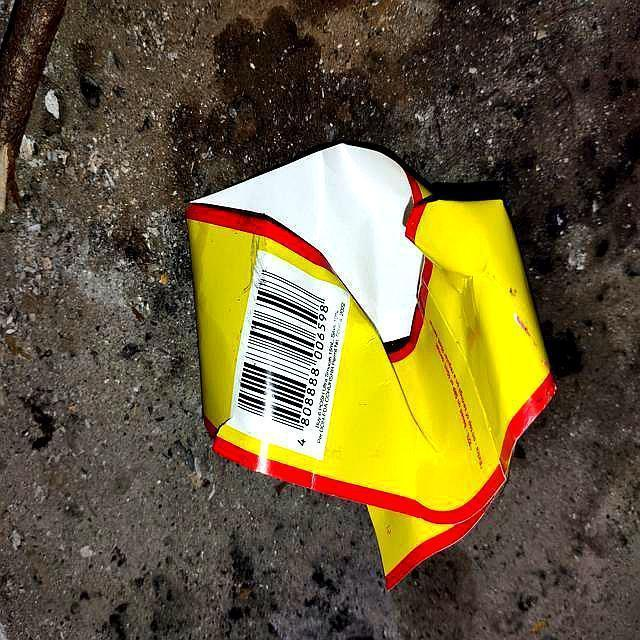Biodegradable: (183, 147, 557, 585)
